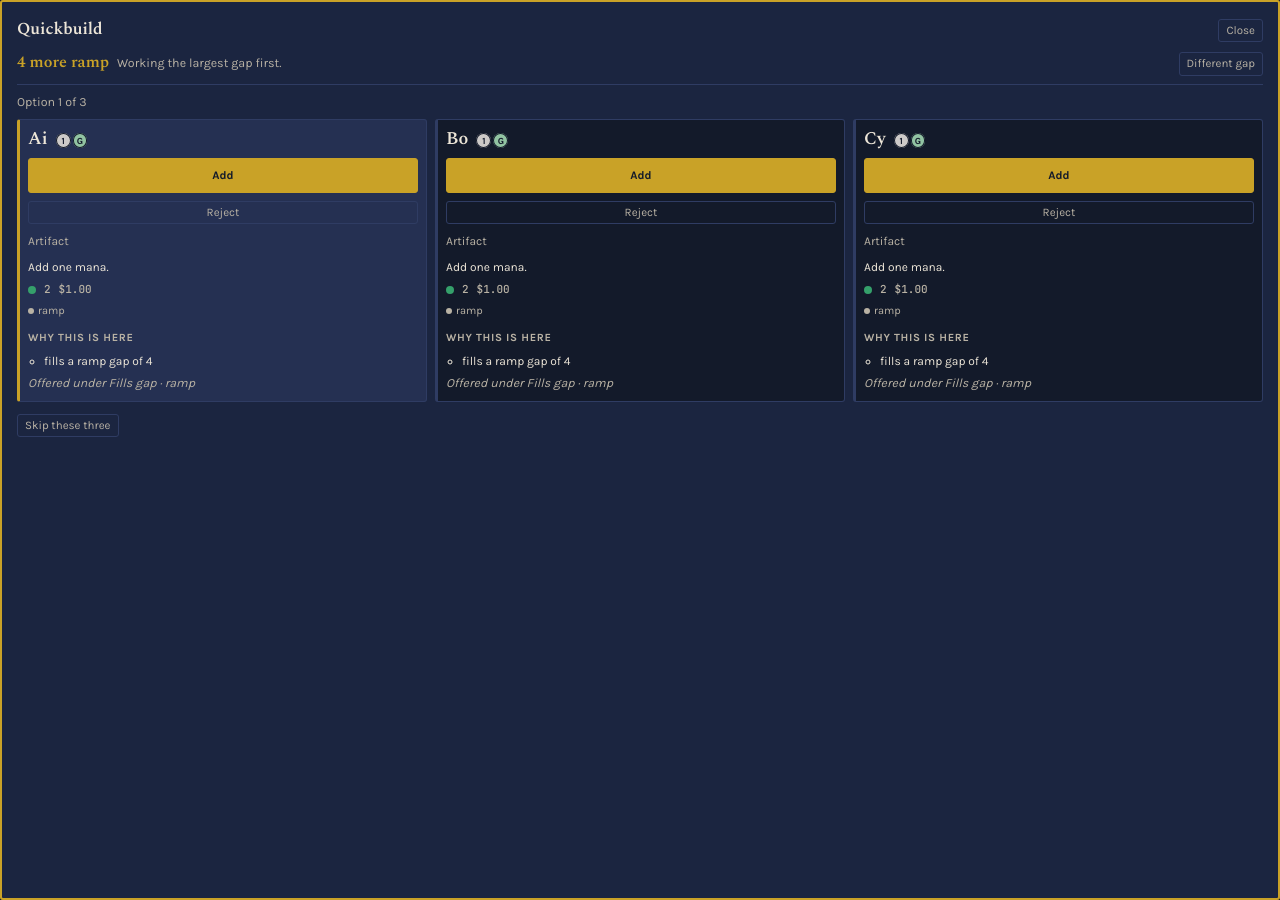
Test: skip is a pass, not a rejection (D5) › shows three different candidates and sends nothing
Expected: the heading "Ai" is shown, [28, 128, 48, 150]
Step 1. Click the button "Skip these three" → (68, 425), box [17, 414, 118, 437]
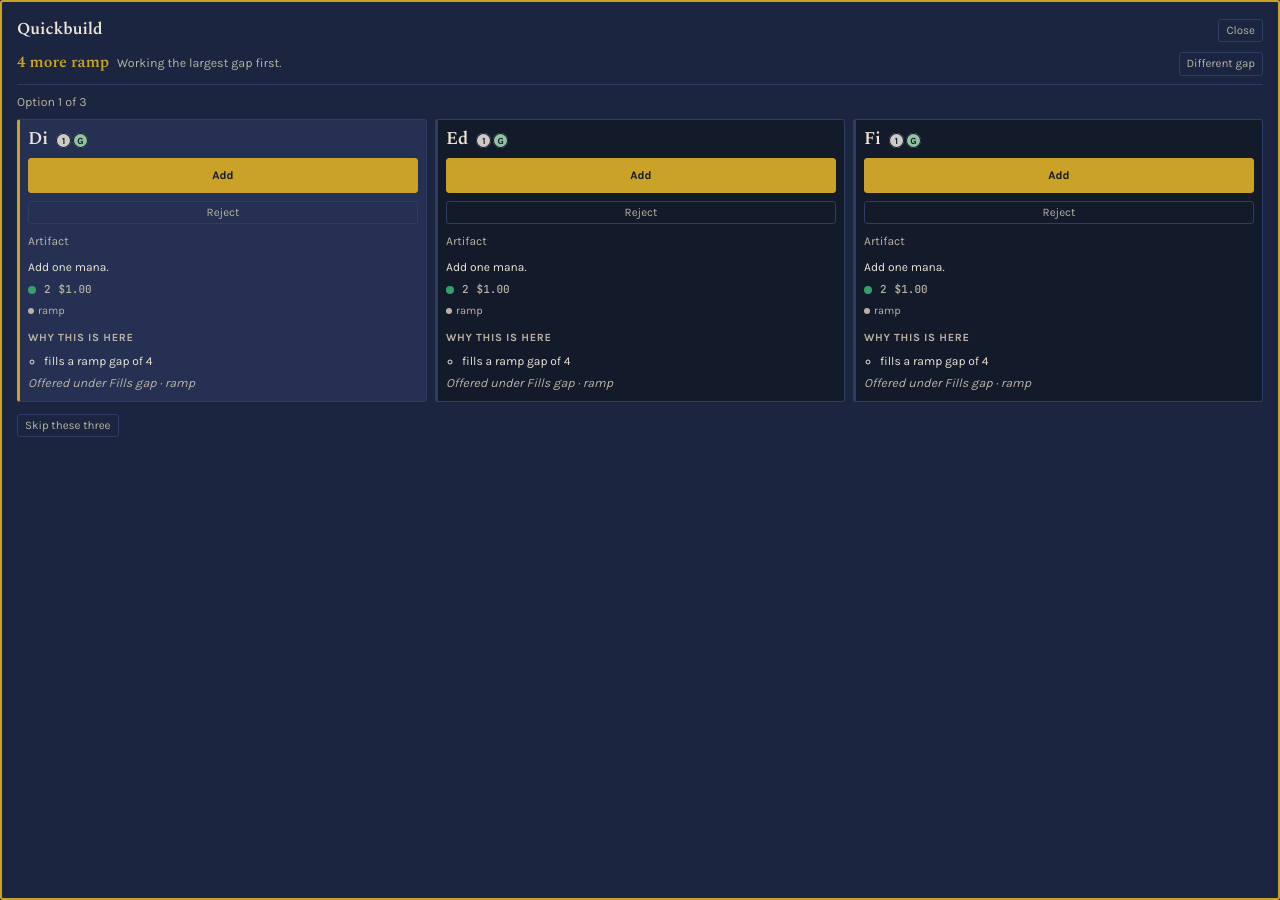
Result: the heading "Ai" is gone
Result: the heading "Bo" is gone
Result: the heading "Cy" is gone
